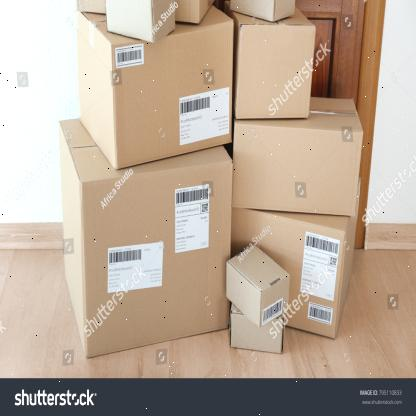box: (82, 164, 230, 360), (115, 19, 234, 171), (233, 120, 363, 218), (234, 25, 318, 121), (229, 316, 285, 353), (259, 274, 288, 328)
